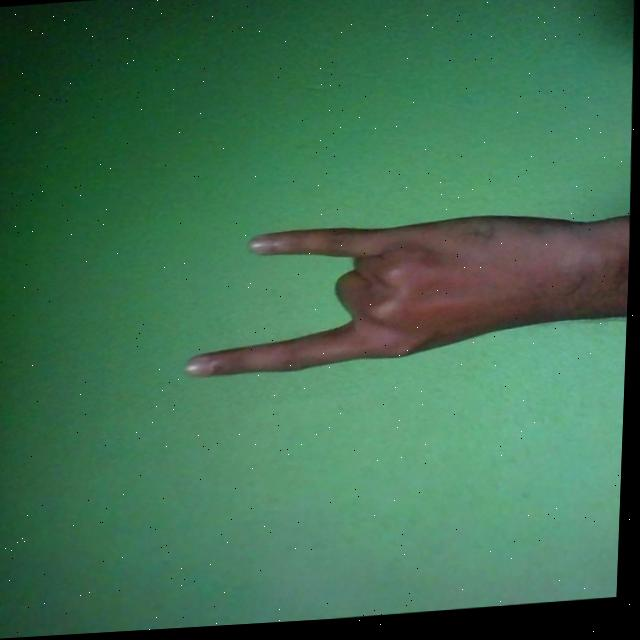Rock On: (187, 211, 620, 382)
